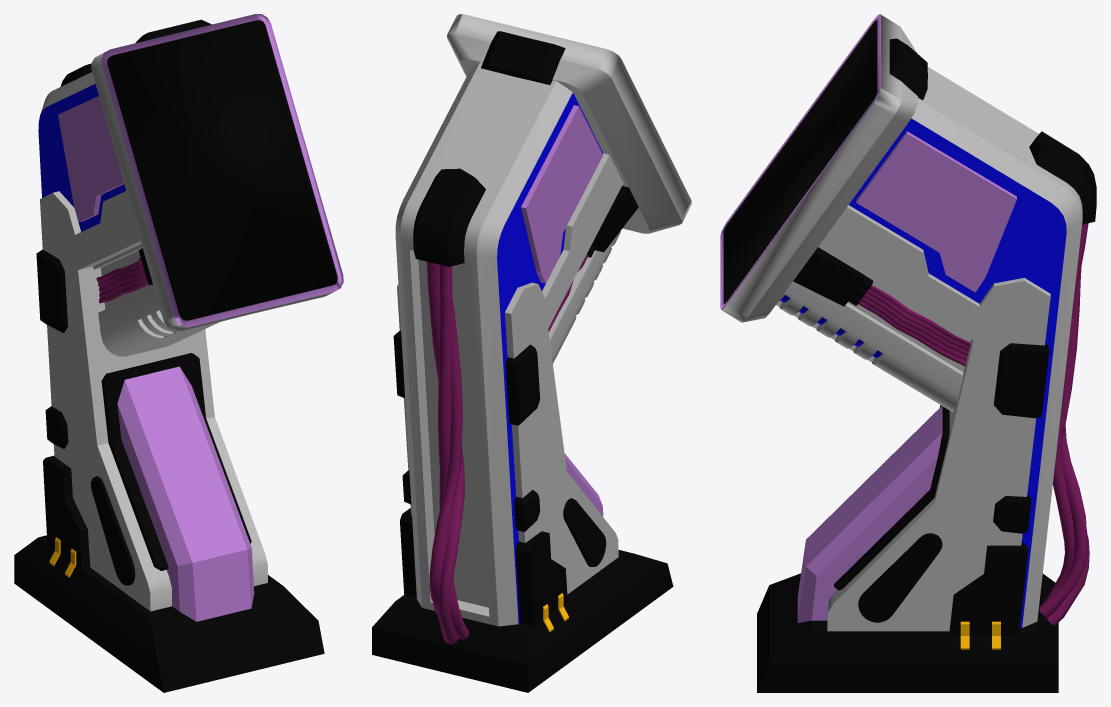
File: lampSquareFloor.glb
3 views of the same model, side by side, from view 1: azimuth 30°, elevation 25°; view 2: azimuth 150°, elevation 25°; view 3: azimuth 270°, elevation 25° (orthographic). The views are drawn at different scales.
Visible parts, largest first — view 1: lampSquareFloor; view 2: lampSquareFloor; view 3: lampSquareFloor.
Part boxes in pixels (x1,y1,x2,y2): lampSquareFloor: (14, 14, 343, 692); lampSquareFloor: (372, 14, 691, 692); lampSquareFloor: (720, 14, 1096, 692).
Bounding box in the file's own units: 0.4511 × 1.52 × 0.8615.
